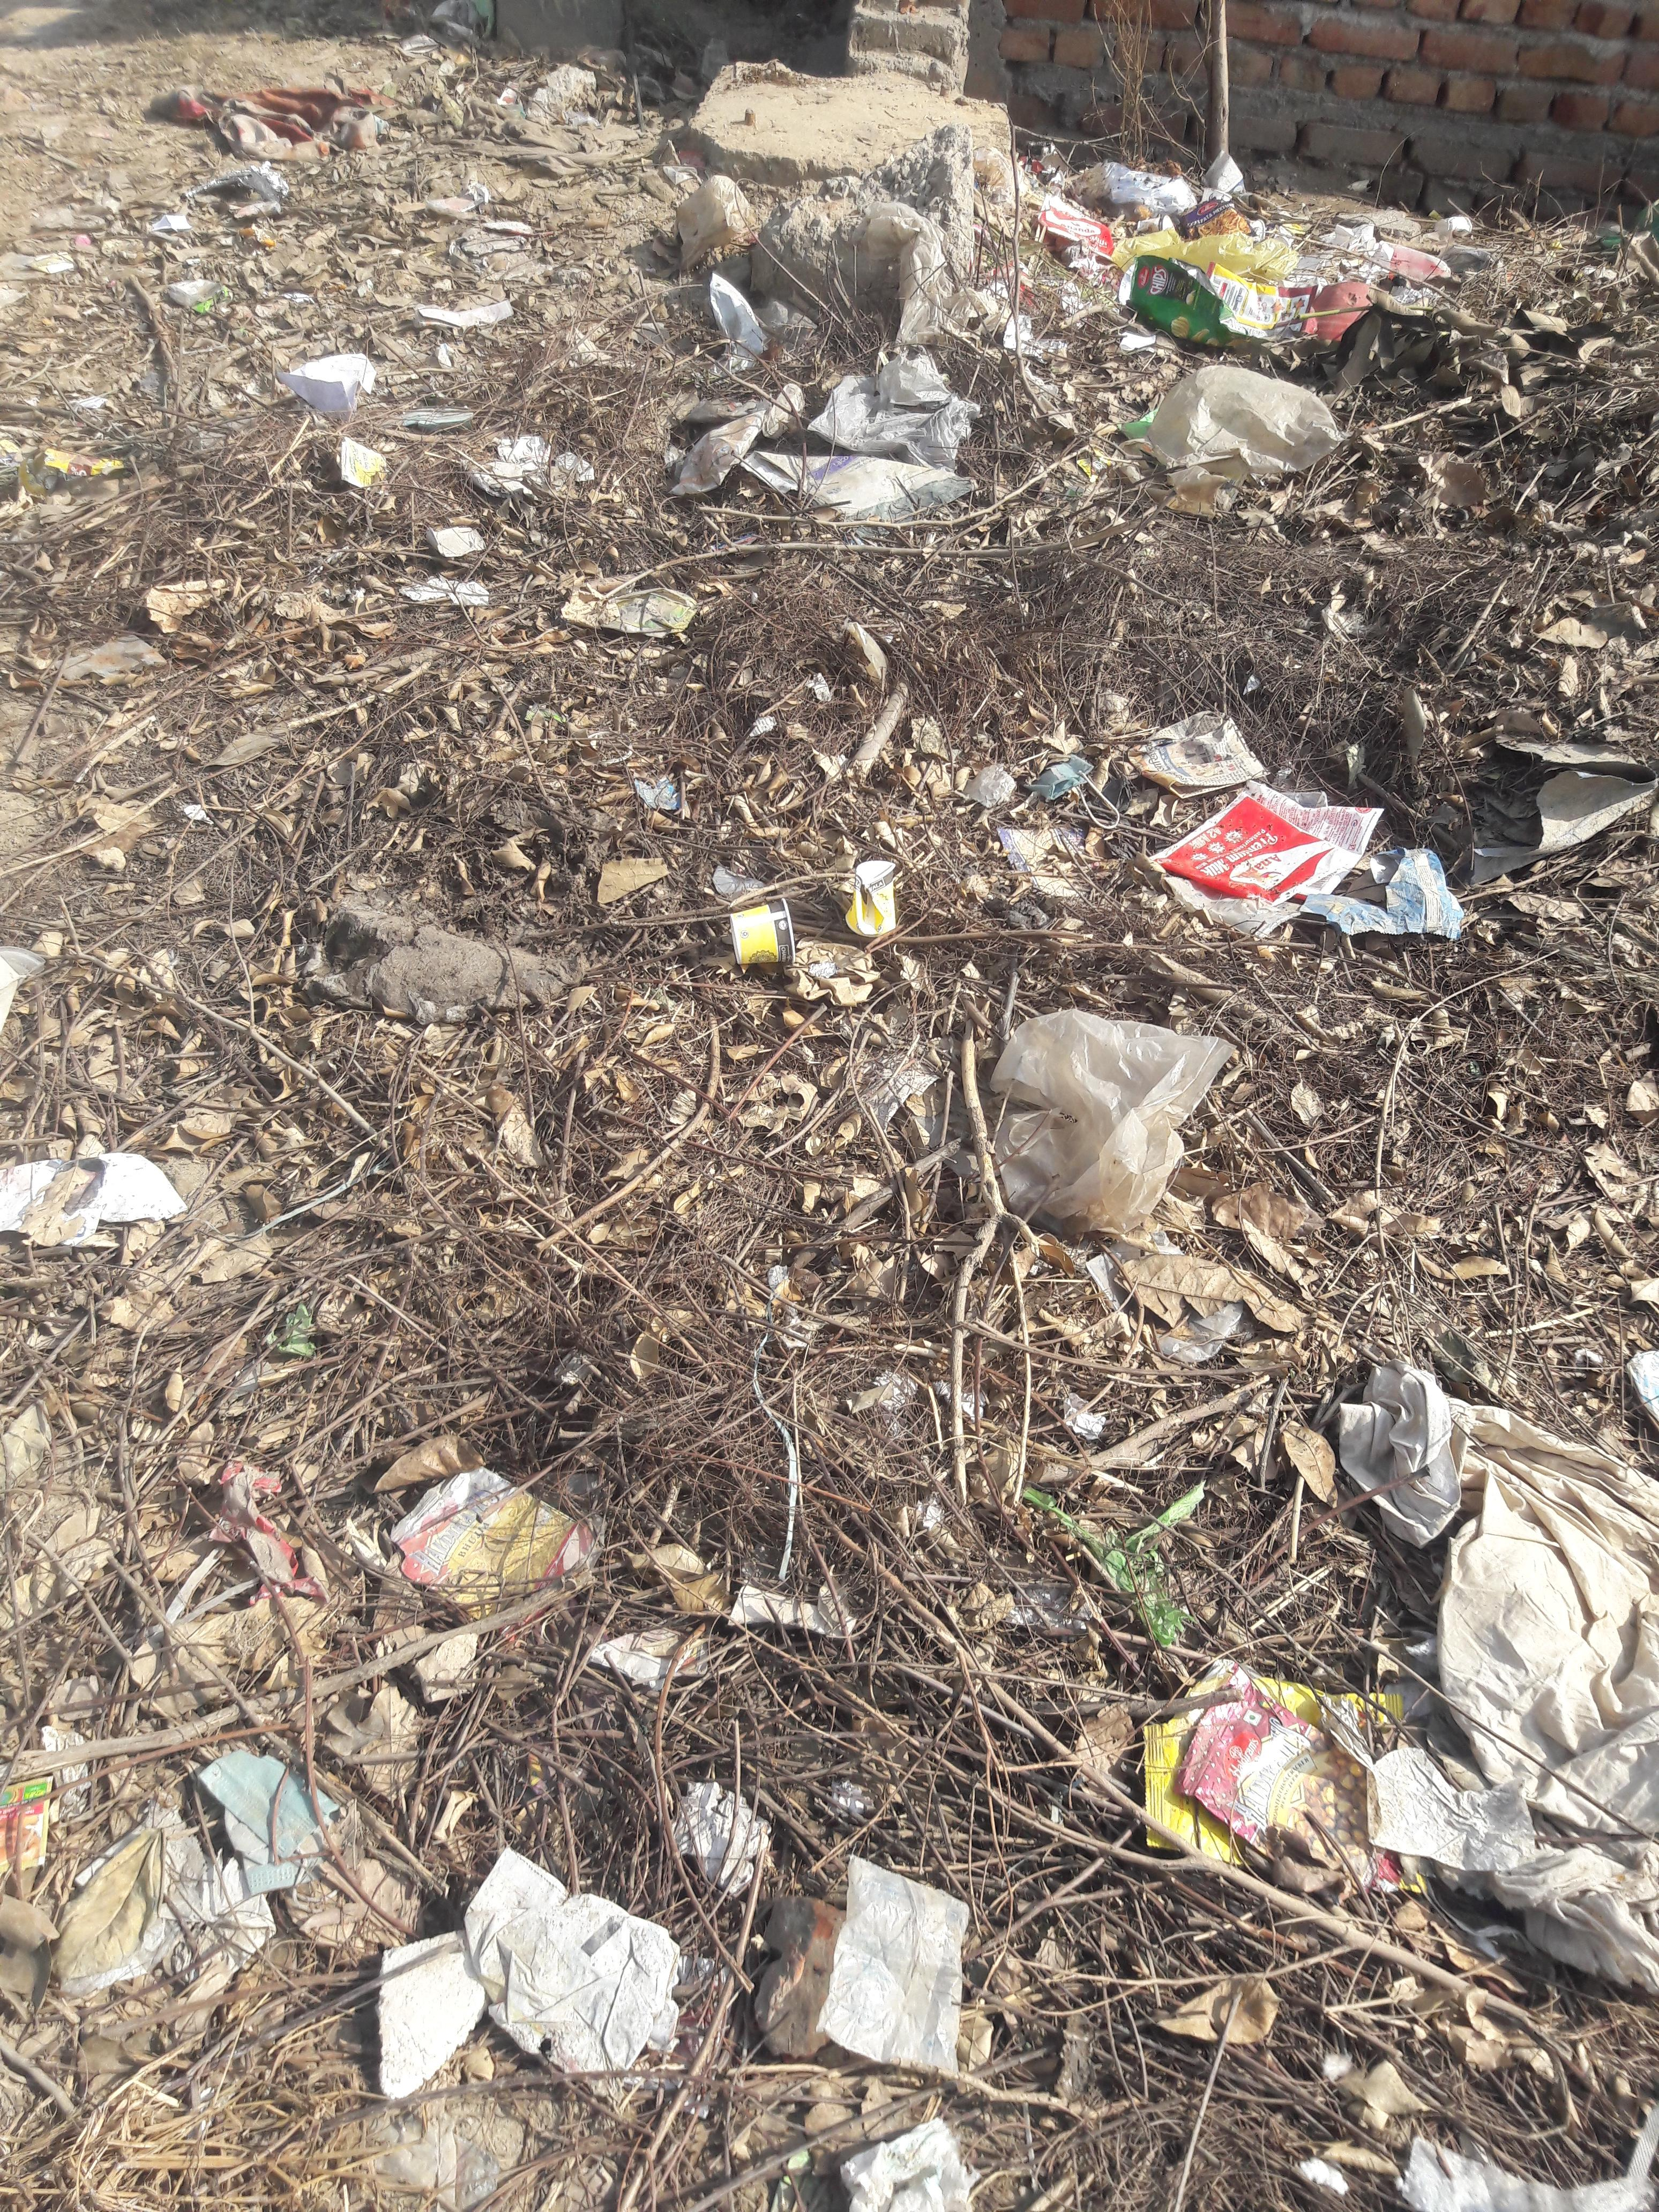organic: (631, 0, 1642, 1989)
